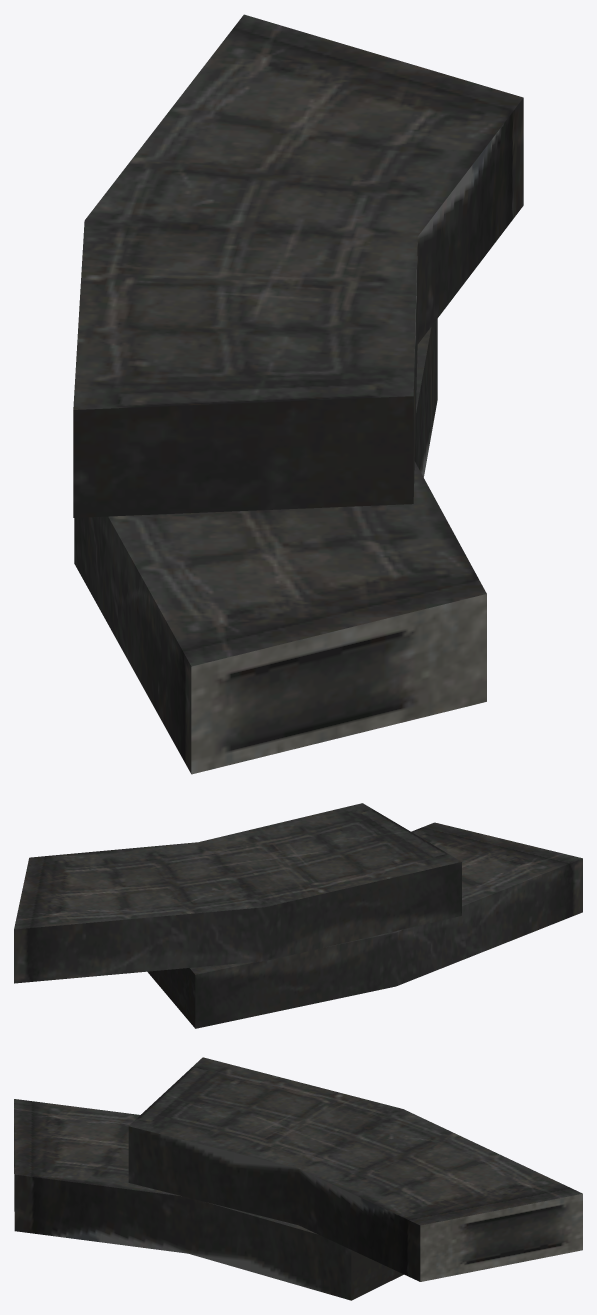
The model's file is t6_attach_fastmag_type95_world_LOD1.obj.
3 views of the same model, one above another, from view 1: azimuth 30°, elevation 25°; view 2: azimuth 150°, elevation 25°; view 3: azimuth 270°, elevation 25° (orthographic). The views are drawn at different scales.
Parts seen in each view (by area): view 1: mtl_t6_wpn_ar_type95; view 2: mtl_t6_wpn_ar_type95; view 3: mtl_t6_wpn_ar_type95.
Boxes of the visible parts, x1,y1,x2,y2 form: mtl_t6_wpn_ar_type95: (73,14,523,774); mtl_t6_wpn_ar_type95: (14,803,582,1028); mtl_t6_wpn_ar_type95: (14,1057,582,1300).
Size of the model in its own units: 19.75 by 5.7 by 25.79.
